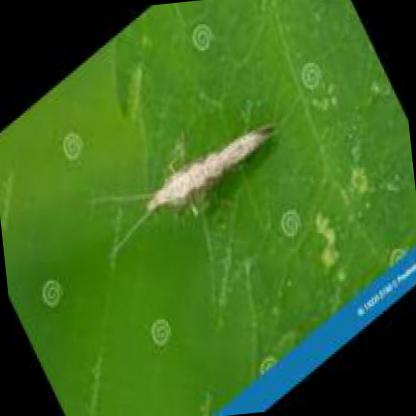plutella: (78, 117, 287, 266)
